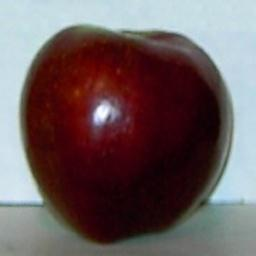apple: (19, 22, 232, 245)
